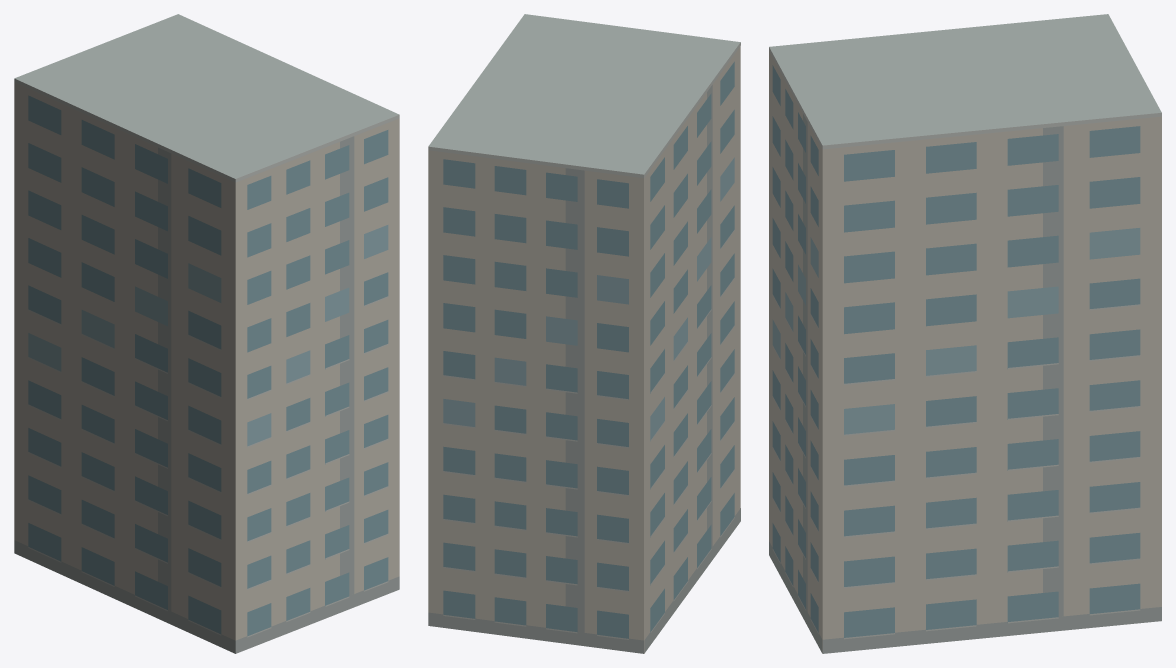
The model's file is residential-8f7d76c1-fbd9-4819-9069-58813e56cfdc.glb.
The picture shows the model from 3 angles, left to right: view 1: azimuth 30°, elevation 25°; view 2: azimuth 150°, elevation 25°; view 3: azimuth 270°, elevation 25°; orthographic projection. The views are drawn at different scales.
Parts seen in each view (by area): view 1: residential-8f7d76c1-fbd9-4819-9069-58813e56cfdc.tmp; view 2: residential-8f7d76c1-fbd9-4819-9069-58813e56cfdc.tmp; view 3: residential-8f7d76c1-fbd9-4819-9069-58813e56cfdc.tmp.
Part boxes in pixels (x1=…): residential-8f7d76c1-fbd9-4819-9069-58813e56cfdc.tmp: x1=14, y1=14, x2=399, y2=653; residential-8f7d76c1-fbd9-4819-9069-58813e56cfdc.tmp: x1=428, y1=14, x2=740, y2=653; residential-8f7d76c1-fbd9-4819-9069-58813e56cfdc.tmp: x1=769, y1=14, x2=1161, y2=653.
Size of the model in its own units: 17.77 by 32 by 22.42.
